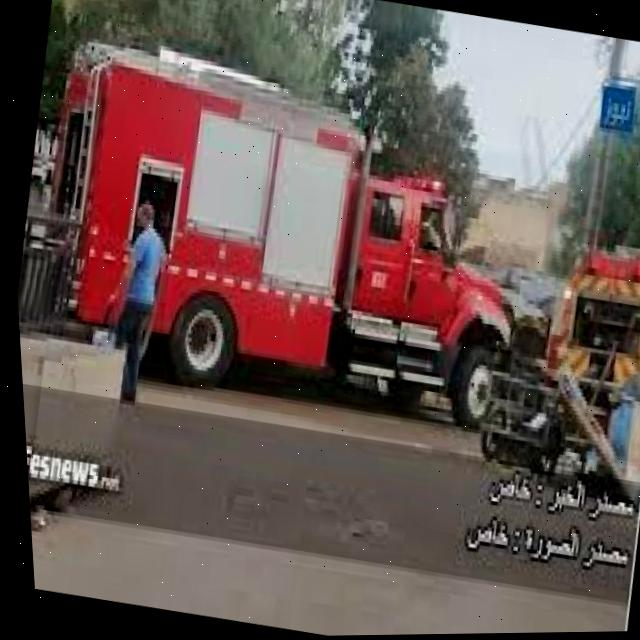emergency: (8, 31, 557, 457)
